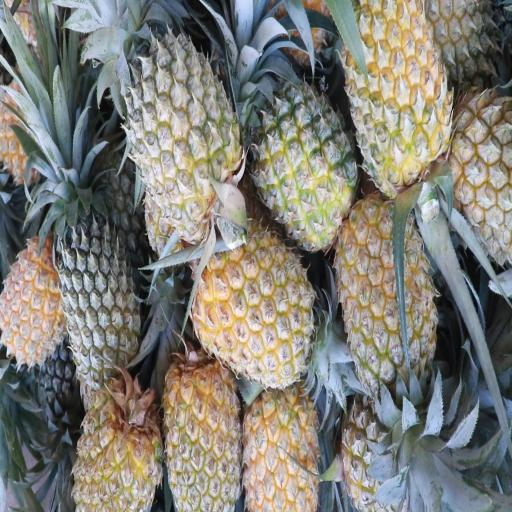------------------------------: (125, 27, 234, 224), (258, 84, 356, 248), (340, 386, 426, 510), (446, 94, 512, 249)
Pineapple - v8 v1: (342, 0, 451, 182), (198, 216, 318, 376), (336, 196, 438, 375), (74, 361, 164, 512), (166, 352, 245, 512), (250, 378, 325, 512), (3, 221, 76, 355)
